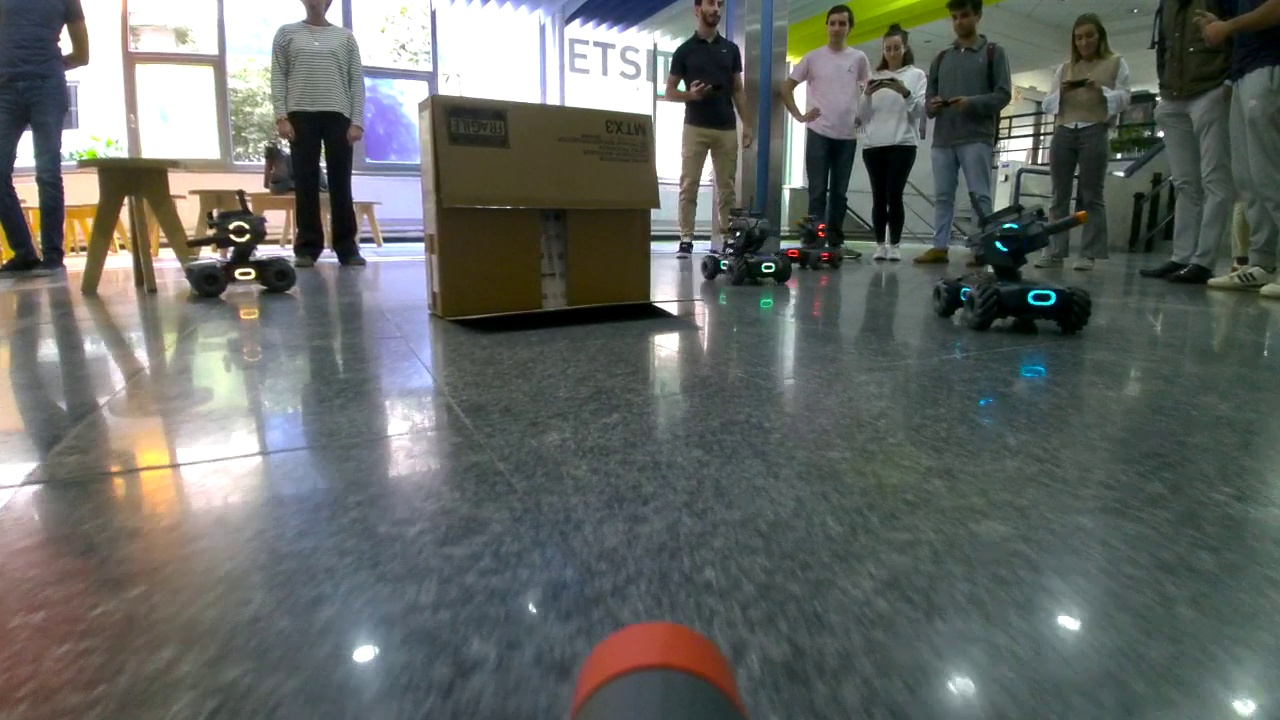robot: (932, 196, 1098, 338), (180, 208, 309, 306), (696, 198, 799, 290), (782, 206, 849, 272)
